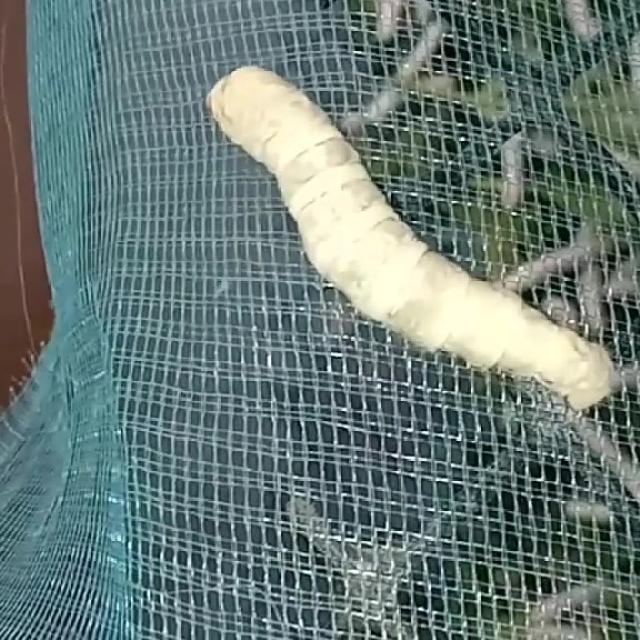Grasserie: (189, 41, 612, 430)
